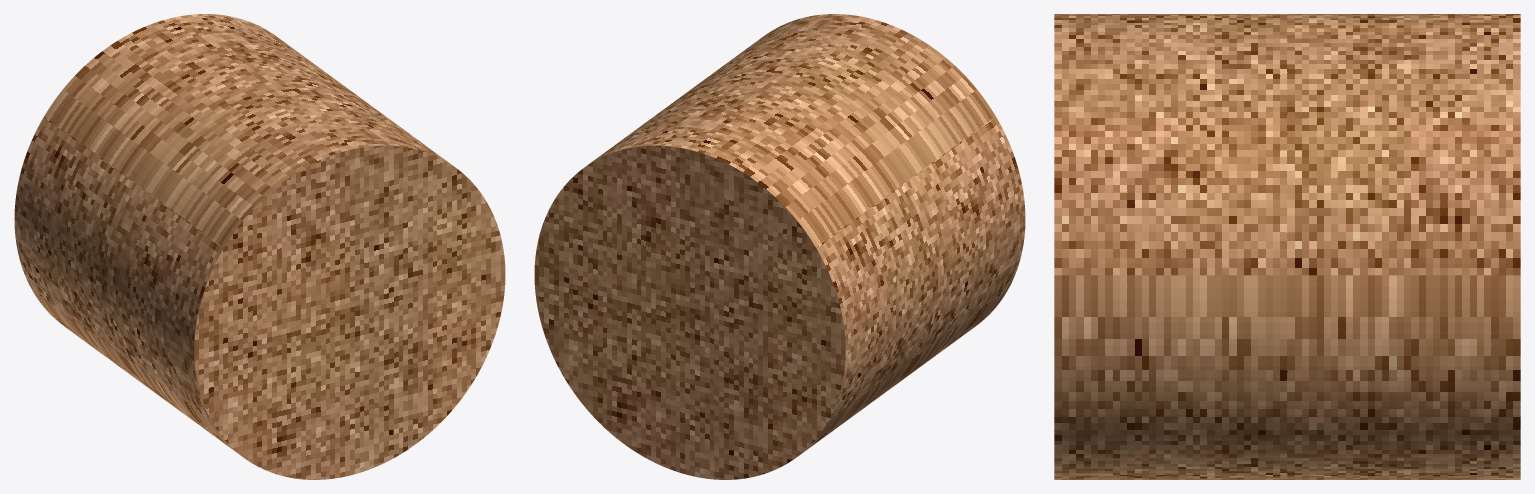
Rendered from Tabung.obj.
3 views of the same model, side by side, from view 1: azimuth 30°, elevation 25°; view 2: azimuth 150°, elevation 25°; view 3: azimuth 270°, elevation 25° (orthographic). The views are drawn at different scales.
Visible parts, largest first — view 1: Object.1; view 2: Object.1; view 3: Object.1.
Part boxes in pixels (bbox=[...]): Object.1: bbox=[14, 14, 505, 479]; Object.1: bbox=[534, 14, 1025, 479]; Object.1: bbox=[1054, 14, 1520, 479].
Size of the model in its own units: 40 by 40 by 40.
Materials: 1 (1 with a texture image).
